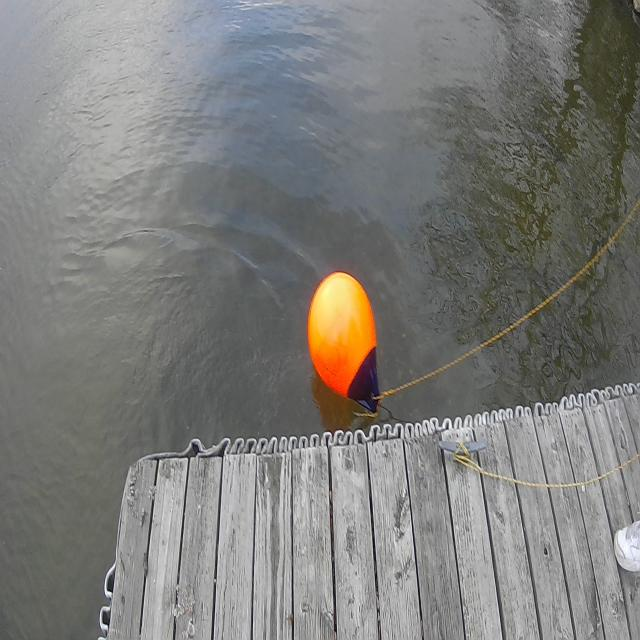Buoy: (306, 266, 384, 417)
